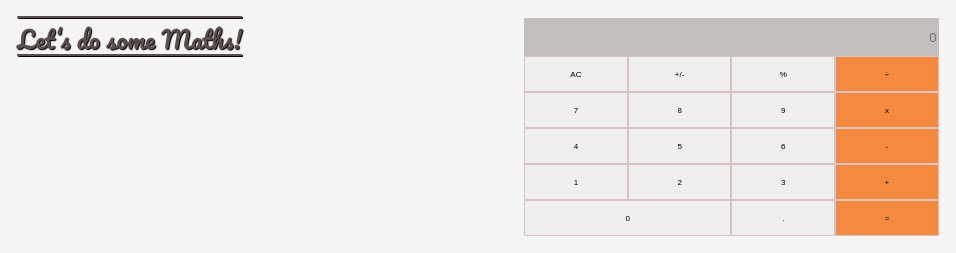
Test: Calculator › updates the output field correctly when buttons are clicked
This screenshot has width=956, height=253.
Click the button "1" at (576, 182), box [524,164,628,200]
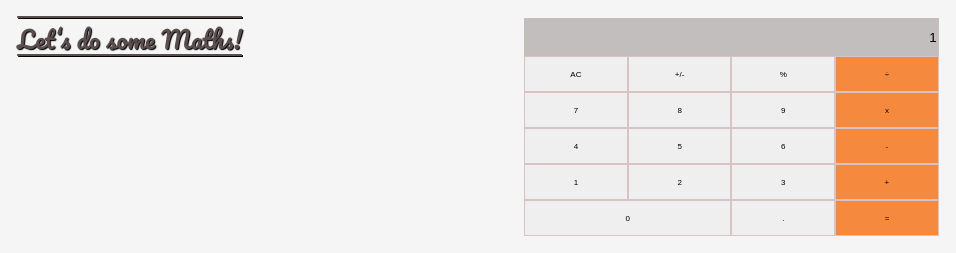
Click the button "+" at (887, 182), box [835,164,939,200]
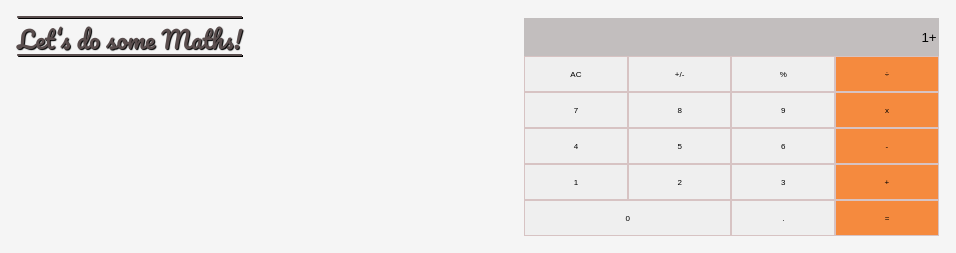
Click the button "2" at (680, 182), box [628,164,732,200]
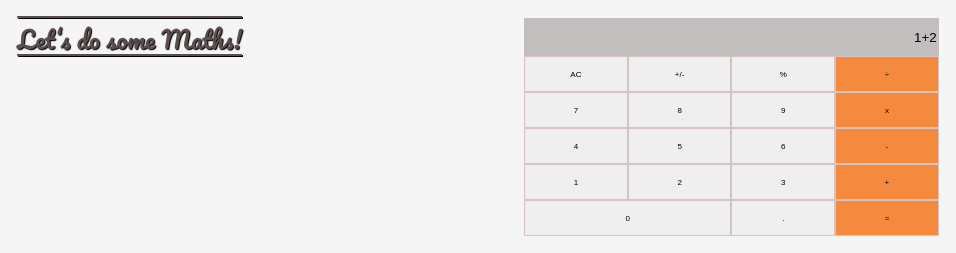
Click the button "=" at (887, 218), box [835,200,939,236]
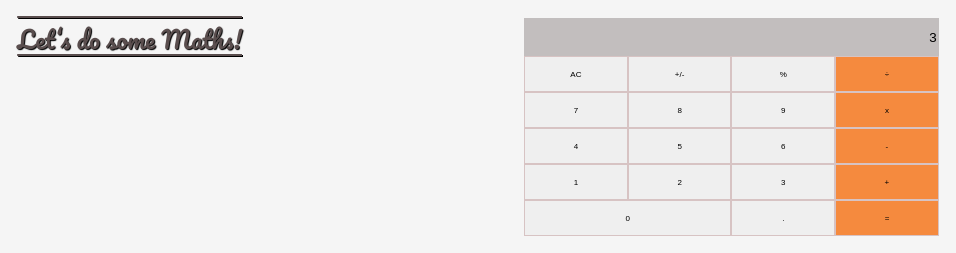
Check: the field with placeholder "0" holds "3", box [524,18,939,56]
